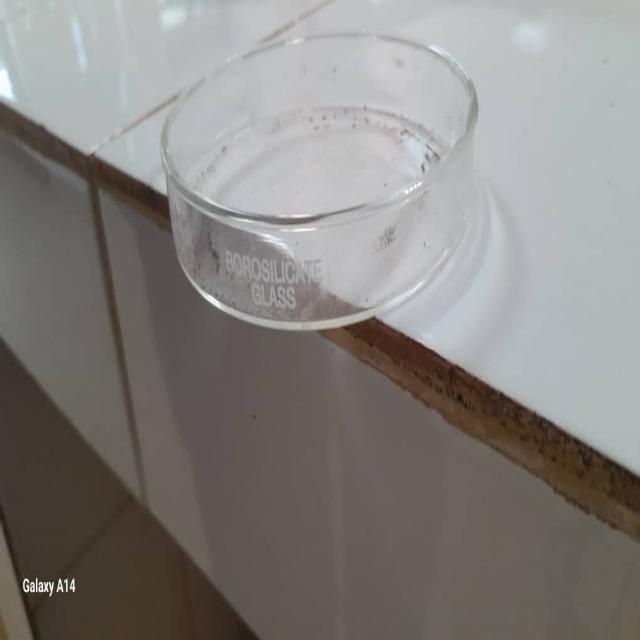Pedrish: (144, 31, 484, 330)
